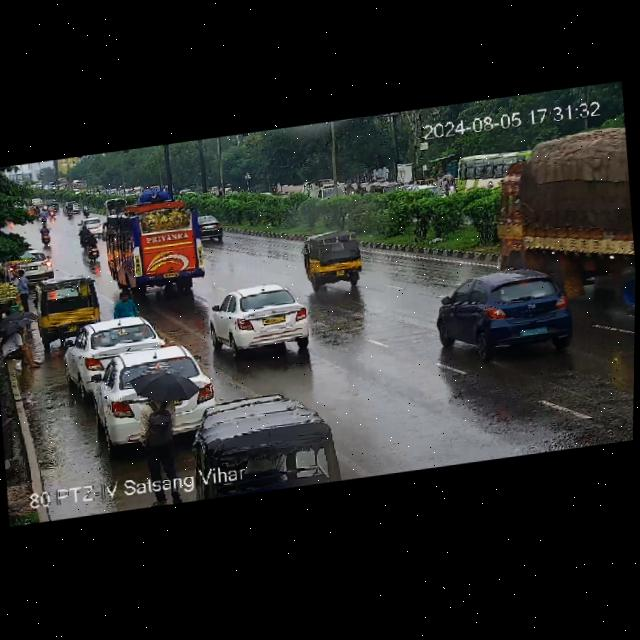bus: (101, 197, 205, 299), (450, 144, 524, 199)
car: (428, 258, 579, 366), (209, 278, 313, 360), (96, 343, 213, 412), (64, 312, 163, 385), (301, 223, 373, 290), (32, 273, 105, 339), (22, 247, 50, 277), (200, 216, 225, 246)
motorcycle: (76, 223, 101, 263), (38, 220, 50, 246), (65, 202, 74, 217), (47, 204, 56, 217), (83, 202, 89, 216)
person: (135, 373, 179, 478), (0, 321, 44, 373), (112, 290, 138, 319), (14, 266, 31, 310)
truck: (488, 117, 635, 279)
